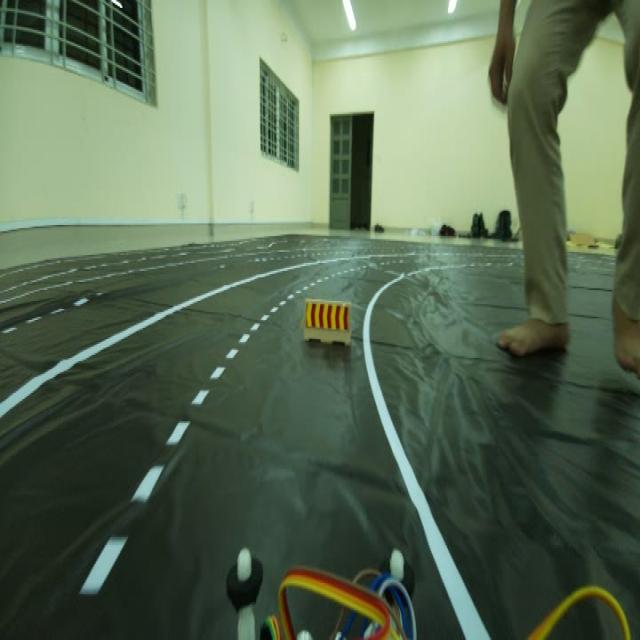roadblock: (300, 281, 354, 349)
